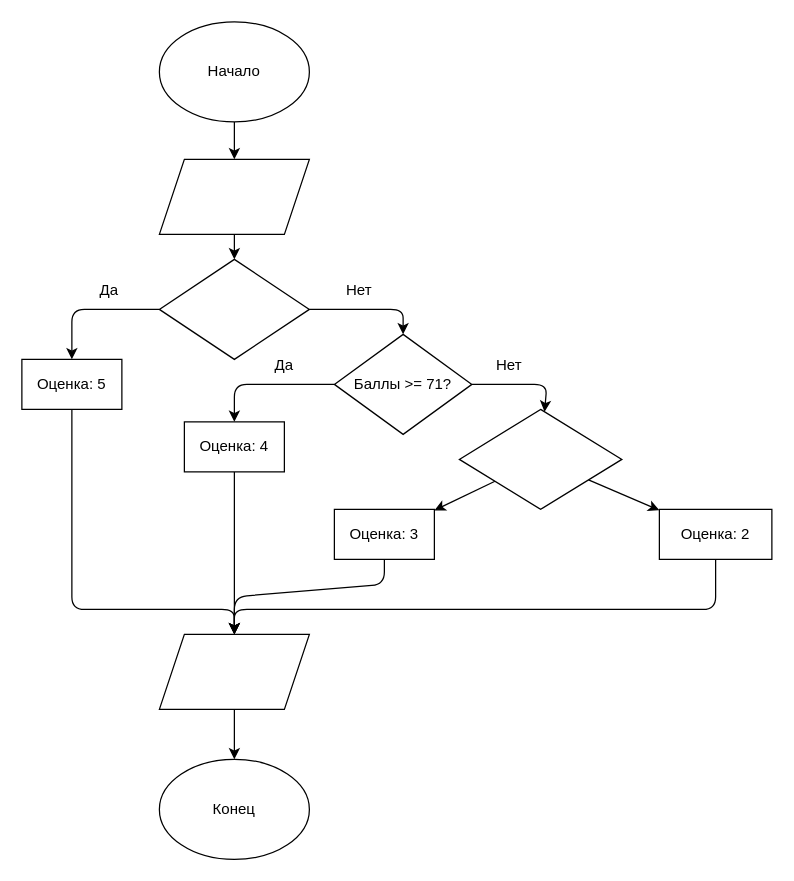
Image size: 794x881. Some labels were removed from this diagram. Here are the shapes that lost their labels. From the top down, the centre of each, then its label:
At point 233,196: "Ввод: баллов".
At point 233,308: "Баллы >=91?".
At point 540,458: "Баллы >= 51?".
At point 233,671: "Выыод: баллы".
